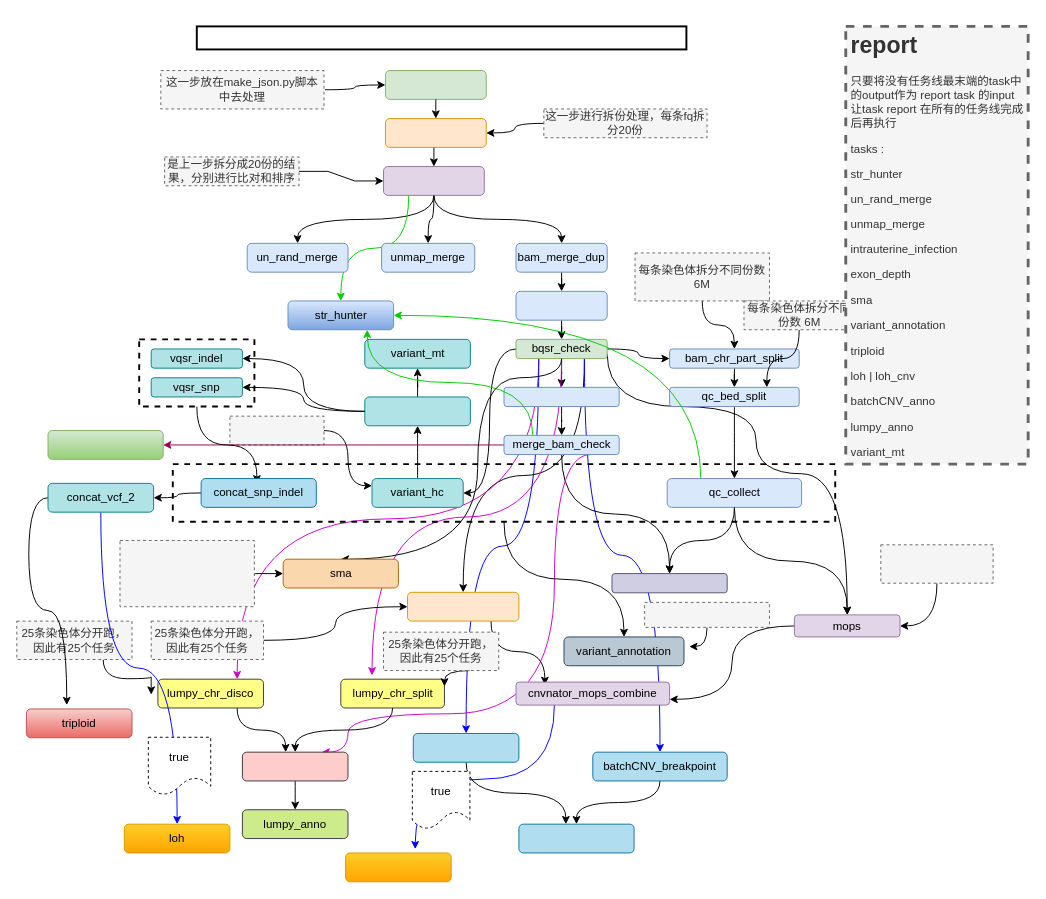
Image size: 1046x899. Some labels were removed from this diagram. Each missing label, with the box of its shape:
align_sort: (383, 166, 484, 195)
all_chr_merge_dup: (503, 386, 619, 407)
batchCNV: (412, 732, 519, 762)
batchCNV_anno: (518, 823, 634, 853)
bqsr: (515, 290, 607, 320)
check_fq: (384, 70, 486, 99)
cnvnator: (407, 591, 519, 621)
concat_vcf: (364, 396, 470, 426)
exon_depth: (611, 573, 727, 593)
filter_split: (384, 118, 486, 147)
final_lumpy: (241, 751, 348, 781)
intrauterine_infection: (47, 430, 163, 459)
loh_cnv: (345, 852, 451, 882)
WGS Pipeline: (195, 25, 687, 50)
变异注释，123个任务: (644, 601, 769, 627)
每条染色体拆分不同份数 24M: (229, 415, 324, 445)
输入要等bqsr这一步都跑完后，workflow中gather结果，write_lines()一个文件作为bam.list: (119, 540, 254, 607)
除线粒体外的染色体分开跑共24个任务: (880, 544, 993, 583)
